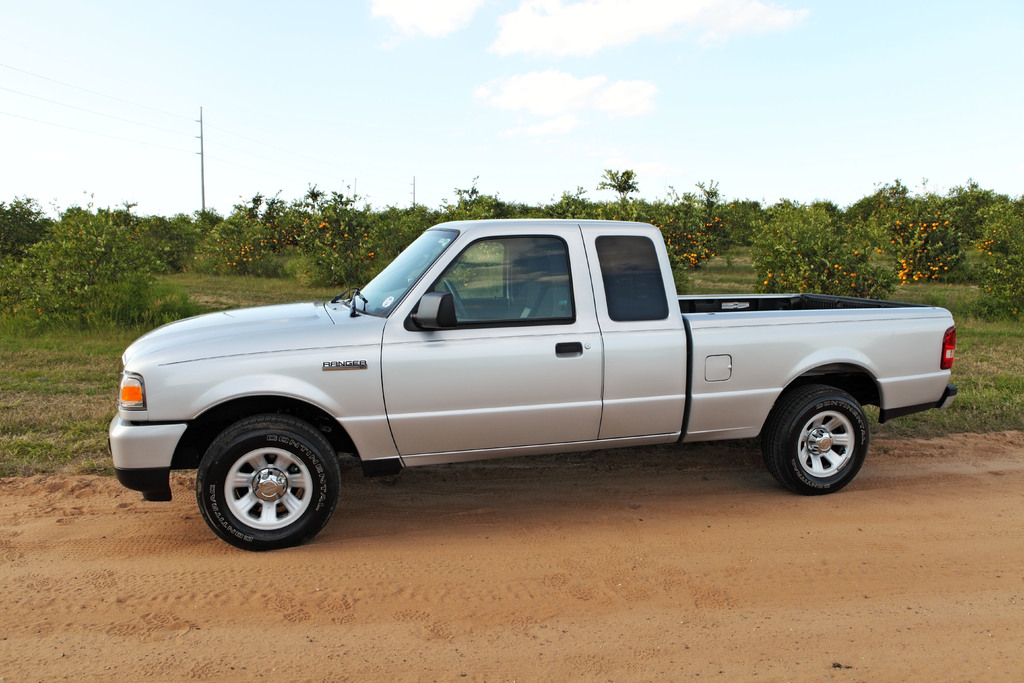car: (62, 186, 979, 557)
